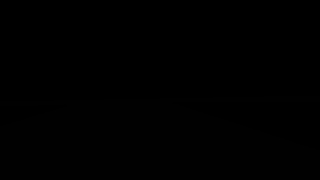turn_left: (172, 62, 185, 75)
